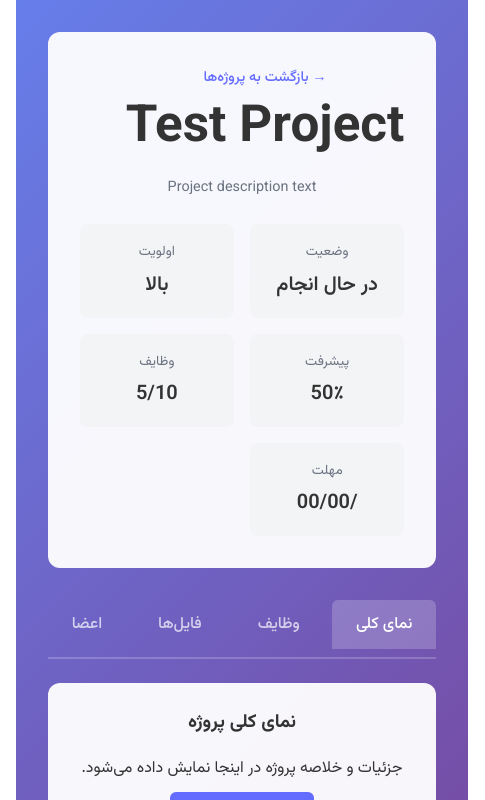
Test: ProjectDetail › switches to tasks tab when clicked
Expected: the heading "نمای کلی پروژه" is shown, [188,708,296,737]
What coordinates should you click on to do the following:
click the button "وظایف"
I would click on:
 (279, 624)
Its box is [234,600,324,649].
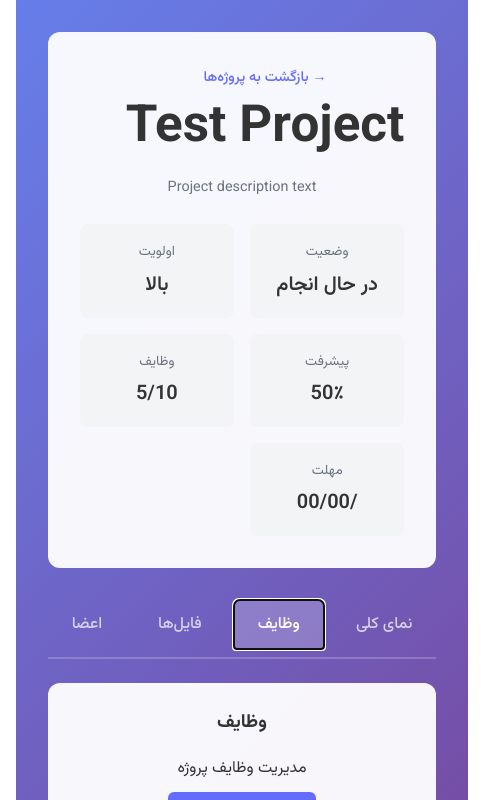
Now the text "مدیریت وظایف پروژه" is shown, box [177,756,306,780]
